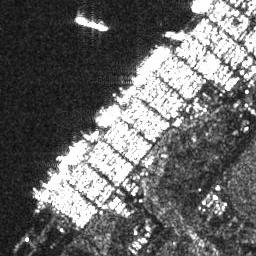ship: (131, 43, 167, 76), (73, 15, 108, 34), (92, 103, 119, 127), (164, 30, 186, 41)
